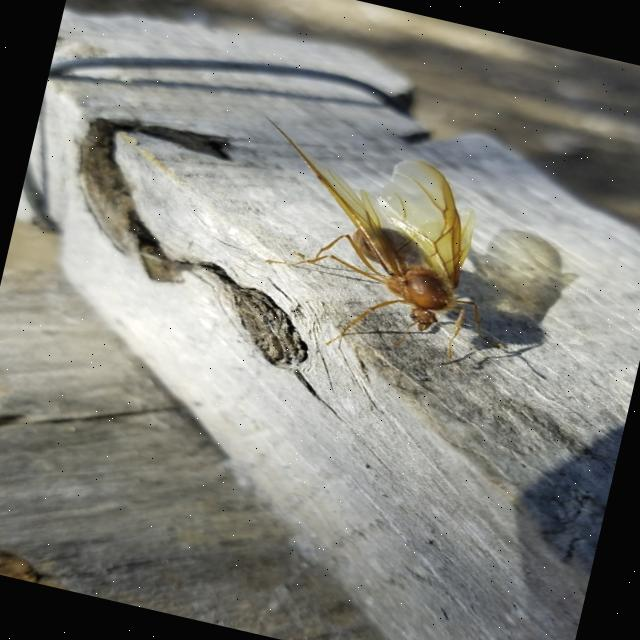Alive-Male-Alate: (218, 117, 546, 386)
